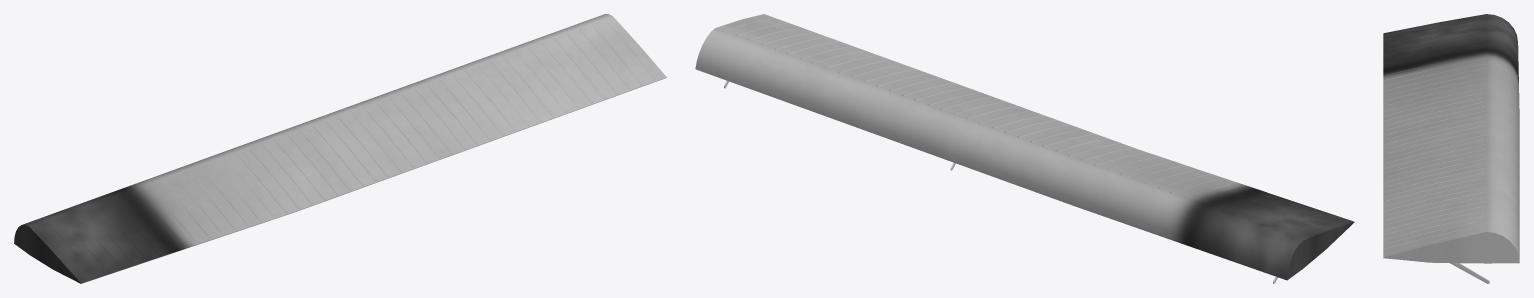
Rendered from flap_right.obj.
3 renders of one model, left to right at view 1: azimuth 30°, elevation 25°; view 2: azimuth 150°, elevation 25°; view 3: azimuth 270°, elevation 25°, orthographic.
Visible parts, largest first — view 1: voletD_voletD.mesh; view 2: voletD_voletD.mesh; view 3: voletD_voletD.mesh.
Boxes of the visible parts, <box> form: voletD_voletD.mesh: <box>14,14,666,283</box>; voletD_voletD.mesh: <box>695,14,1354,283</box>; voletD_voletD.mesh: <box>1383,14,1519,283</box>.
Size of the model in its own units: 2.17 by 0.4165 by 0.4344.
1 material, 1 textured.
